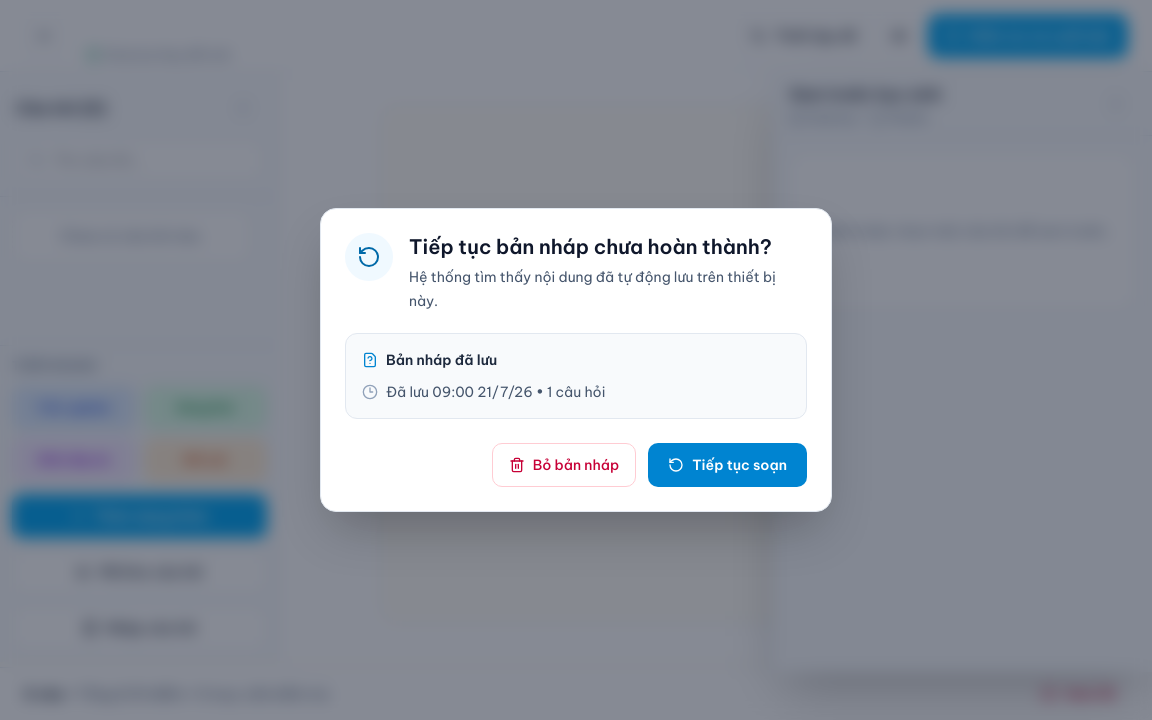
Test: manual quiz draft recovery › discards the local draft and starts from the incoming seed
This screenshot has width=1152, height=720.
Expected: the dialog "Tiếp tục bản nháp chưa hoàn thành?" is shown, [320, 208, 832, 512]
Click the button "Bỏ bản nháp" at [564, 465], box [492, 443, 636, 487]
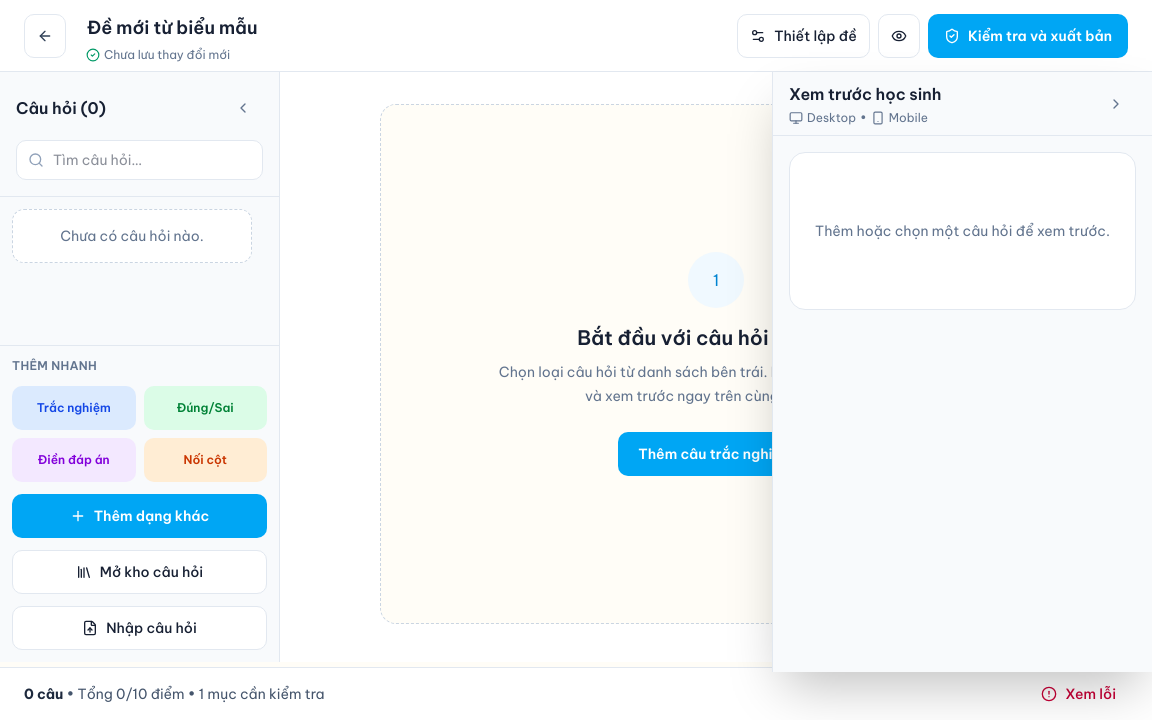
Expected: the field showing "Đề mới từ biểu mẫu" is shown, [78, 8, 725, 46]
